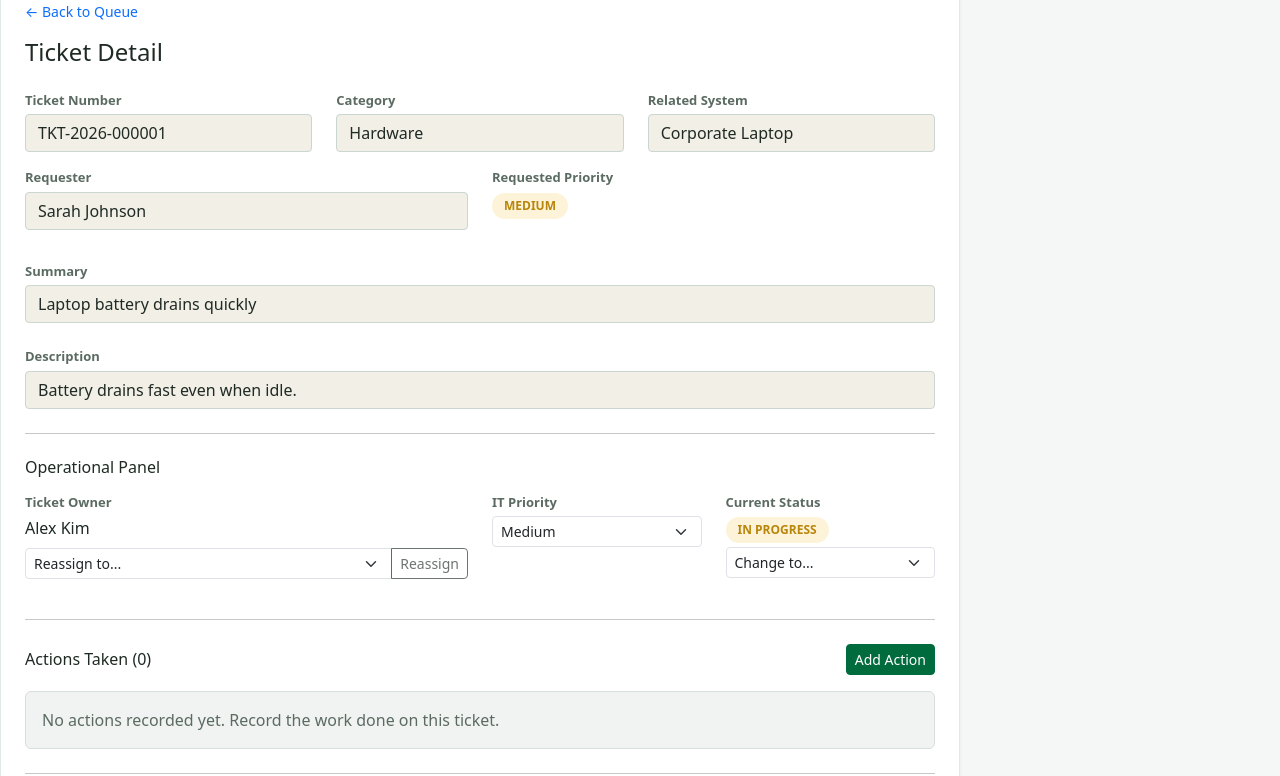
Test: TicketWorkflow (UI-04) › UI-04: success sends expectedUpdatedAt and refreshes badge, resolved date, history and the success callout
This screenshot has width=1280, height=776.
Select "RESOLVED" in the dropdown labelled "Current Status": (830, 563) [726,548,935,578]
(page scrolled)
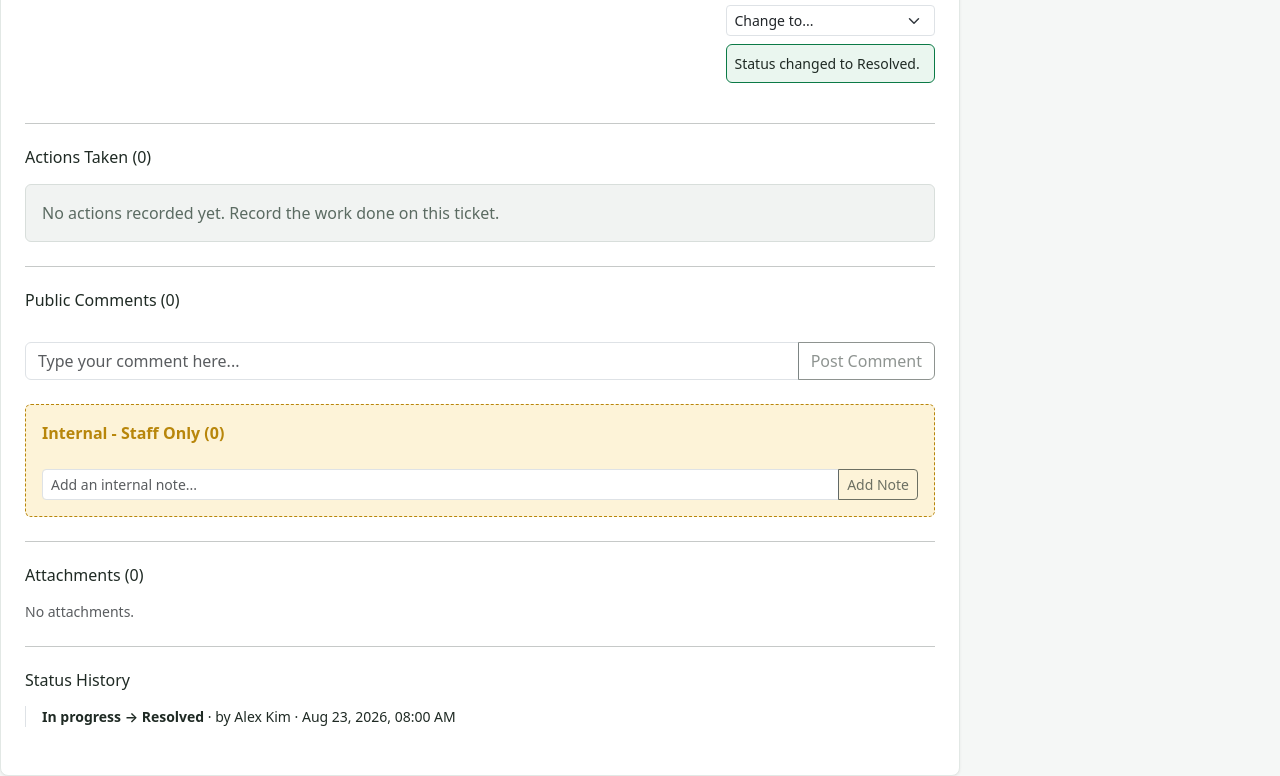
expect the message reads "Status changed to Resolved.": met, box [734,54,920,74]
expect the text "In progress → Resolved" is shown: met, box [42,707,204,726]
